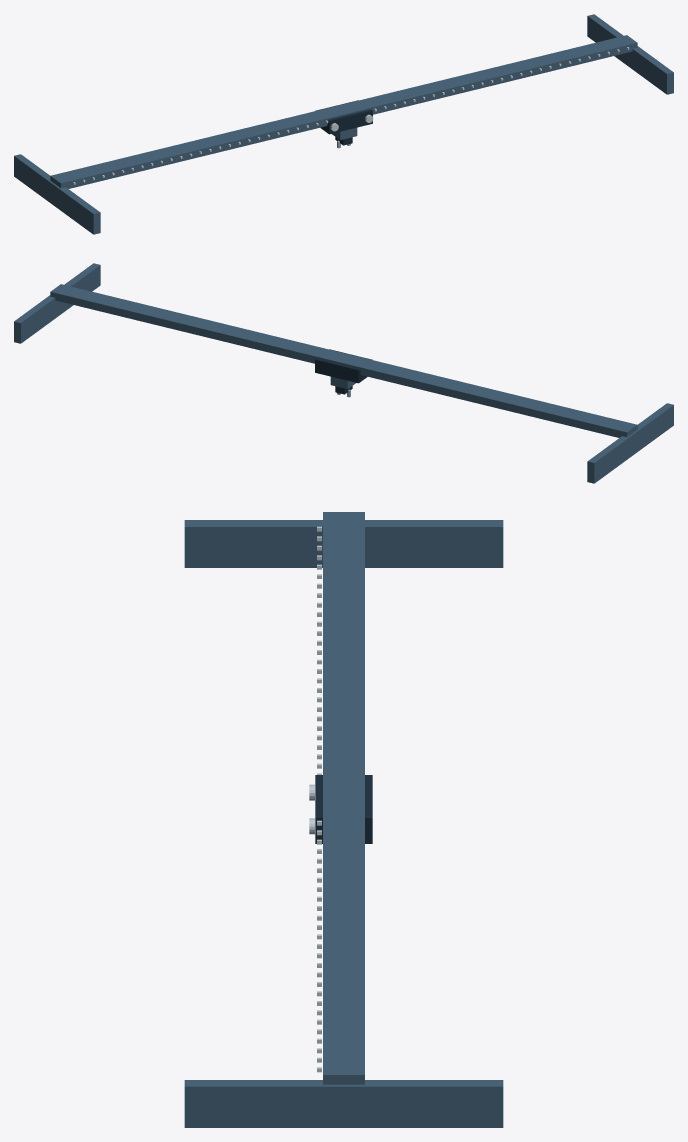
File: 25_L77_OverheadWaferTransferGantry.fbx
3 renders of one model, top to bottom at view 1: azimuth 30°, elevation 25°; view 2: azimuth 150°, elevation 25°; view 3: azimuth 270°, elevation 25°, orthographic. The views are drawn at different scales.
Visible parts, largest first — view 1: OverheadWaferTransferGantry, OverheadWaferTransferGantry_Part_0061; view 2: OverheadWaferTransferGantry, OverheadWaferTransferGantry_Part_0061; view 3: OverheadWaferTransferGantry, OverheadWaferTransferGantry_Part_0061.
Boxes of the visible parts, box(x1,y1,x2,y2) form: OverheadWaferTransferGantry: box(14, 14, 673, 234); OverheadWaferTransferGantry_Part_0061: box(315, 100, 372, 134); OverheadWaferTransferGantry: box(14, 263, 673, 483); OverheadWaferTransferGantry_Part_0061: box(315, 349, 372, 383); OverheadWaferTransferGantry: box(184, 512, 503, 1127); OverheadWaferTransferGantry_Part_0061: box(315, 775, 372, 843).
Bounding box in the file's own units: 1852 × 114 × 440.
